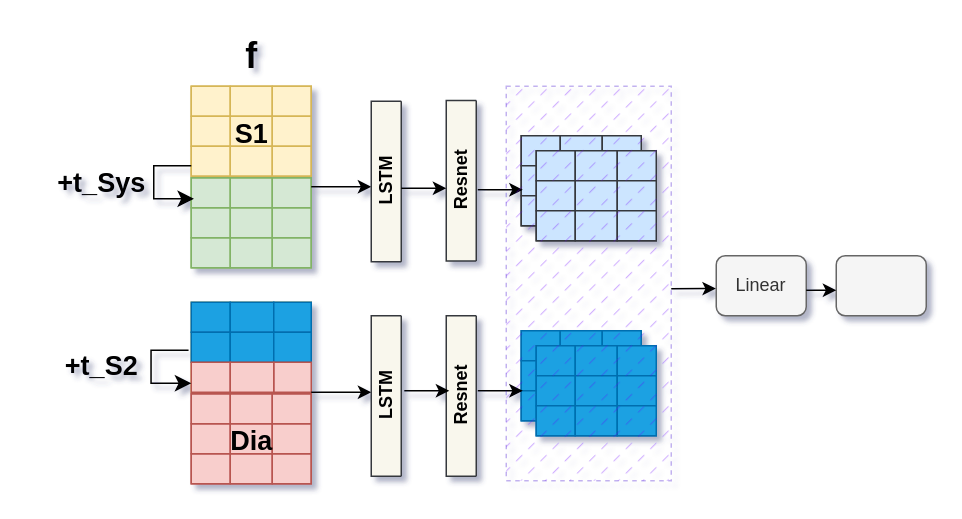
Image size: 962x519. Some labels were removed from this diagram. Here are the shapes that lost their labels. From the top down, the centre of each, then its label:
point (250, 222): S2
point (588, 283): Concatenate
point (880, 285): Output
point (250, 346): Sys
